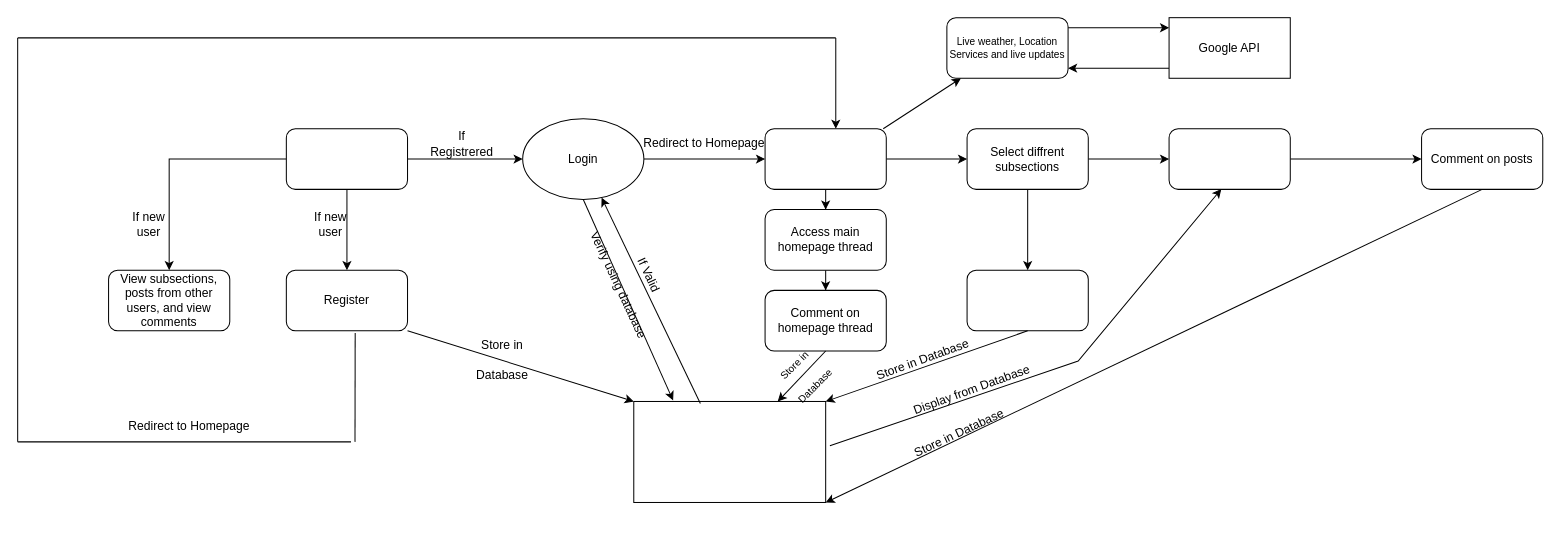
This 1560x535 diagram has some shape labels left out. The centre of each missing label's shape, as x and y in pixels:
"Access Homepage" belongs at (x=825, y=158).
"Access posts from other users" belongs at (x=1229, y=158).
"Create new post" belongs at (x=1027, y=300).
"DATABASE" belongs at (x=729, y=451).
"User on Landing Page" belongs at (x=346, y=158).
